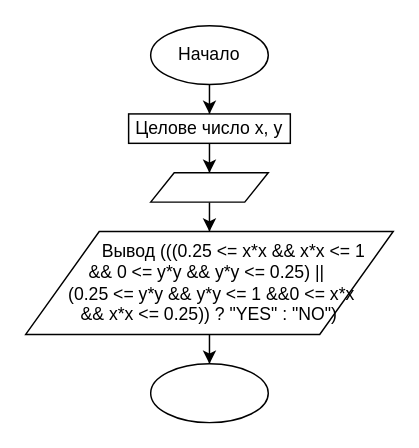
This 419x448 diagram has some shape labels left out. Each missing label, with the box of its shape:
Ввод x, y: (149, 171, 268, 202)
Конец: (149, 362, 268, 423)
